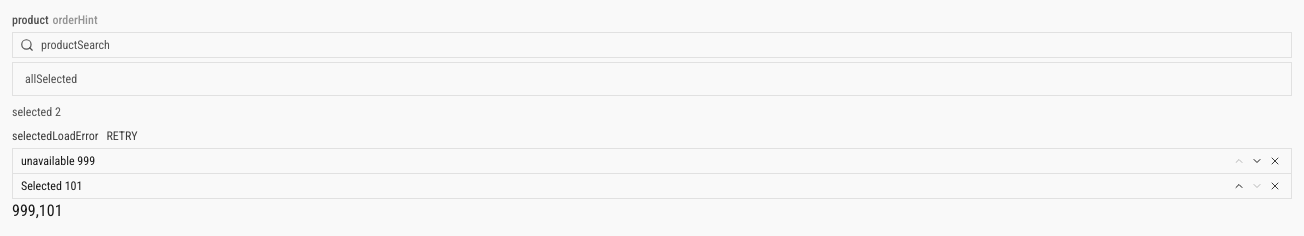
it: EntitySelector admin product access › hydrates hidden selected ids and keeps failed ids removable and correctly ordered
expect the text "Selected 101" is shown: met, box [21,179,82,193]
expect the text "unavailable 999" is shown: met, box [21,154,95,168]
Click the button named "moveUp Selected 101".
click(1239, 186)  # box [1231,178,1247,194]
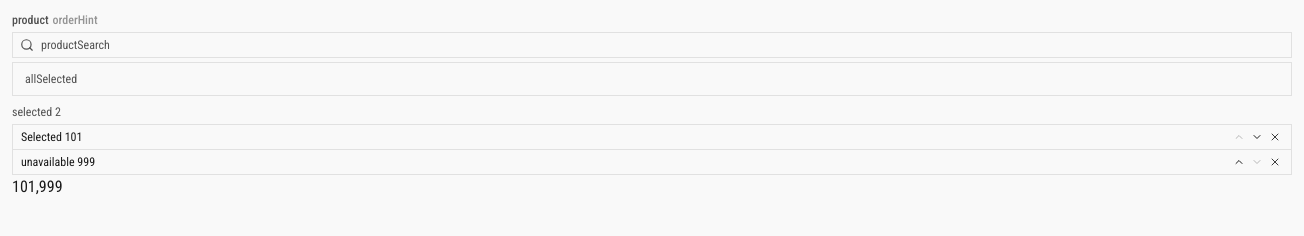
expect the text "101,999" is shown: met, box [12,177,62,196]
Click the button named "remove unavailable 999".
click(1275, 162)  # box [1267,154,1283,170]
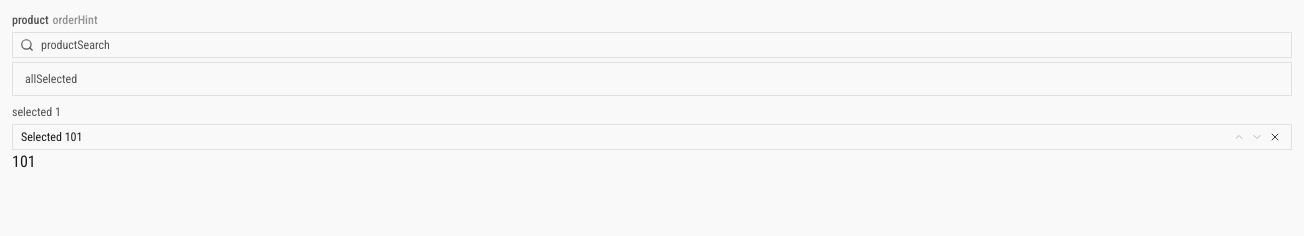
expect the text "101" is shown: met, box [12,152,36,171]
